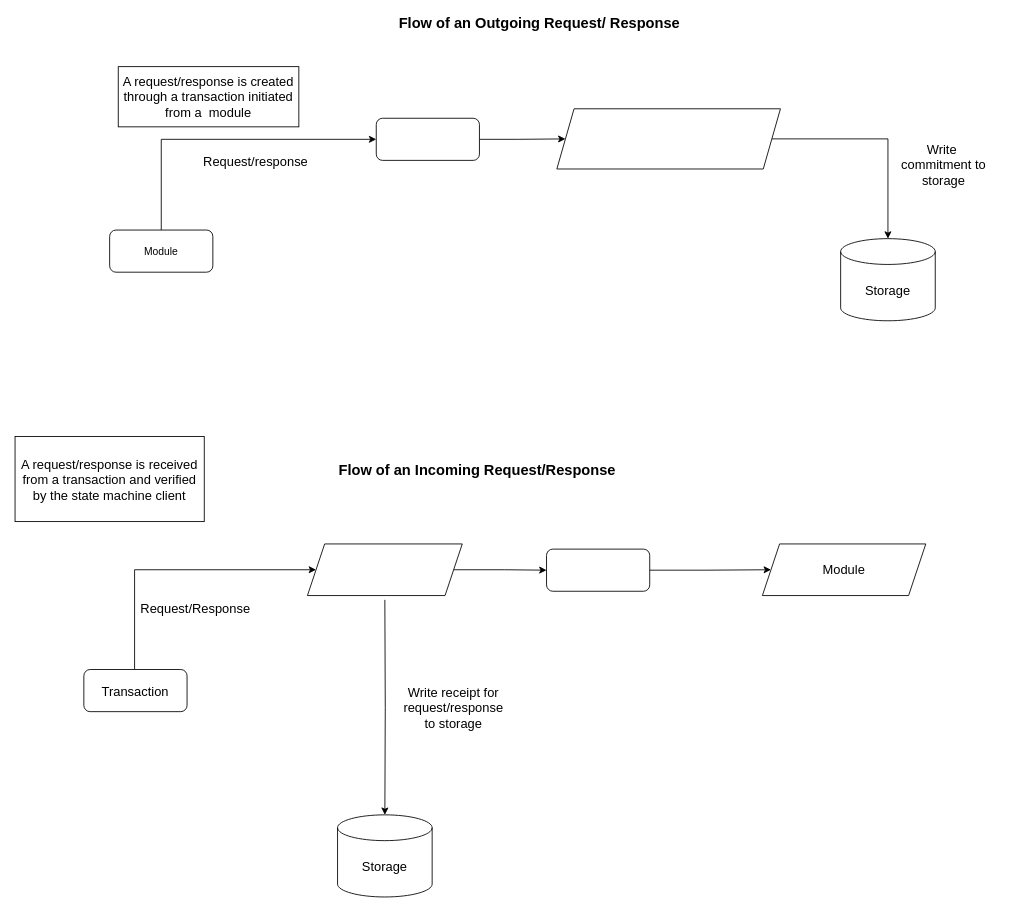
The diagram is 1011 pixels wide and 912 high, and some of its shapes have lost their labels. The shapes that lost their labels are listed below. From the top down, each one's centre as x and y in pixels, then its label:
At point 427,138: "Dispatcher".
At point 668,138: "Keccak256(Request/Response)".
At point 384,569: "Message Handler".
At point 598,569: "Router".
